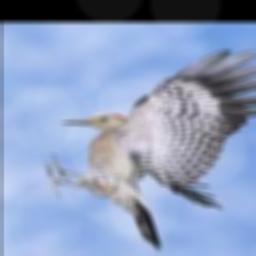Woodpecker: (43, 51, 256, 251)
